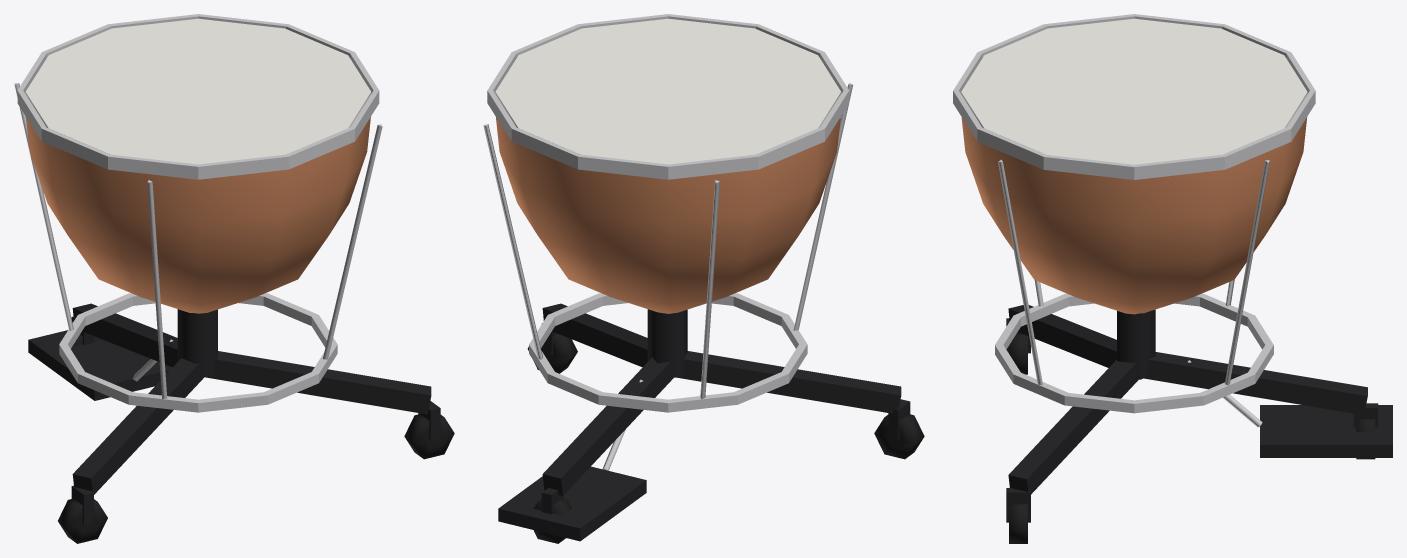
File: timpani-29-low.glb
3 views of the same model, side by side, from view 1: azimuth 30°, elevation 25°; view 2: azimuth 150°, elevation 25°; view 3: azimuth 270°, elevation 25° (orthographic).
Visible parts, largest first — view 1: head, copper, frame, metal, rubber; view 2: head, copper, frame, metal, rubber; view 3: head, copper, frame, metal, rubber.
Part boxes in pixels (bbox=[...]): head: bbox=[25, 18, 371, 164]; copper: bbox=[26, 117, 370, 313]; frame: bbox=[28, 303, 440, 524]; metal: bbox=[14, 14, 382, 412]; rubber: bbox=[58, 334, 454, 543]; head: bbox=[495, 18, 841, 164]; copper: bbox=[496, 117, 840, 313]; frame: bbox=[498, 303, 910, 541]; metal: bbox=[483, 14, 853, 470]; rubber: bbox=[527, 333, 924, 543]; head: bbox=[961, 18, 1307, 164]; copper: bbox=[961, 117, 1307, 314]; frame: bbox=[1006, 305, 1392, 522]; metal: bbox=[953, 14, 1315, 427]; rubber: bbox=[1009, 334, 1375, 543].
Size of the model in its own units: 0.9458 by 0.8463 by 0.9275.
